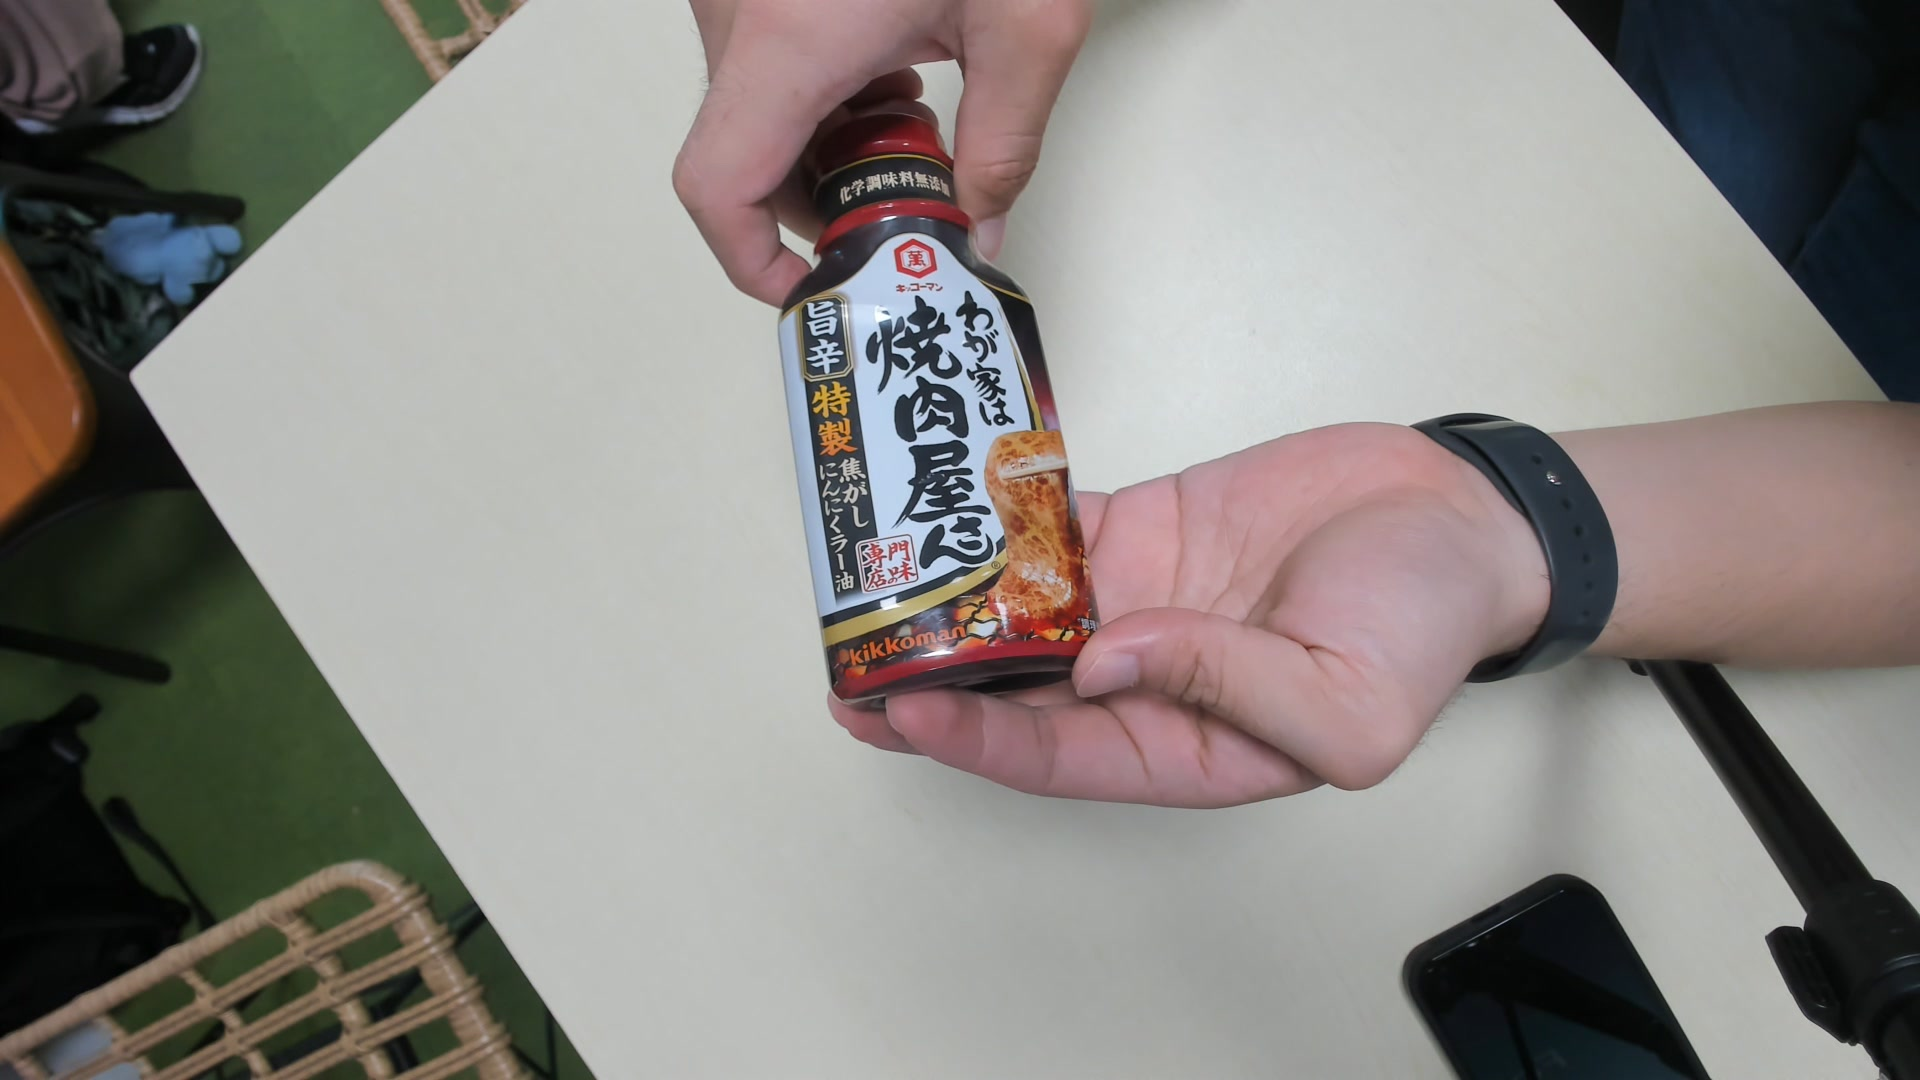OtherSauceDressing_200-299g_NonHalal_NonHealthy: (789, 96, 1098, 717)
